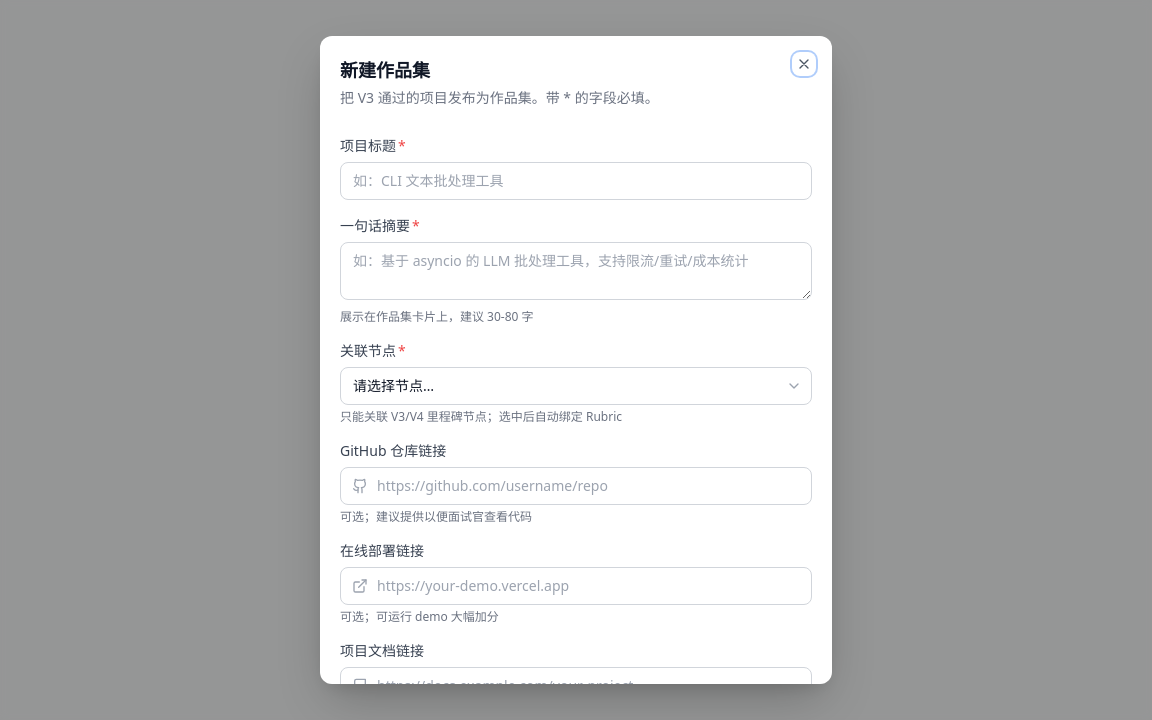
Scenario: PortfolioEditorModal › 节点下拉只列 V3/V4 节点（mockNodes 都符合）
Click the button named "关联节点" at (394, 386), box [340,367,812,405]
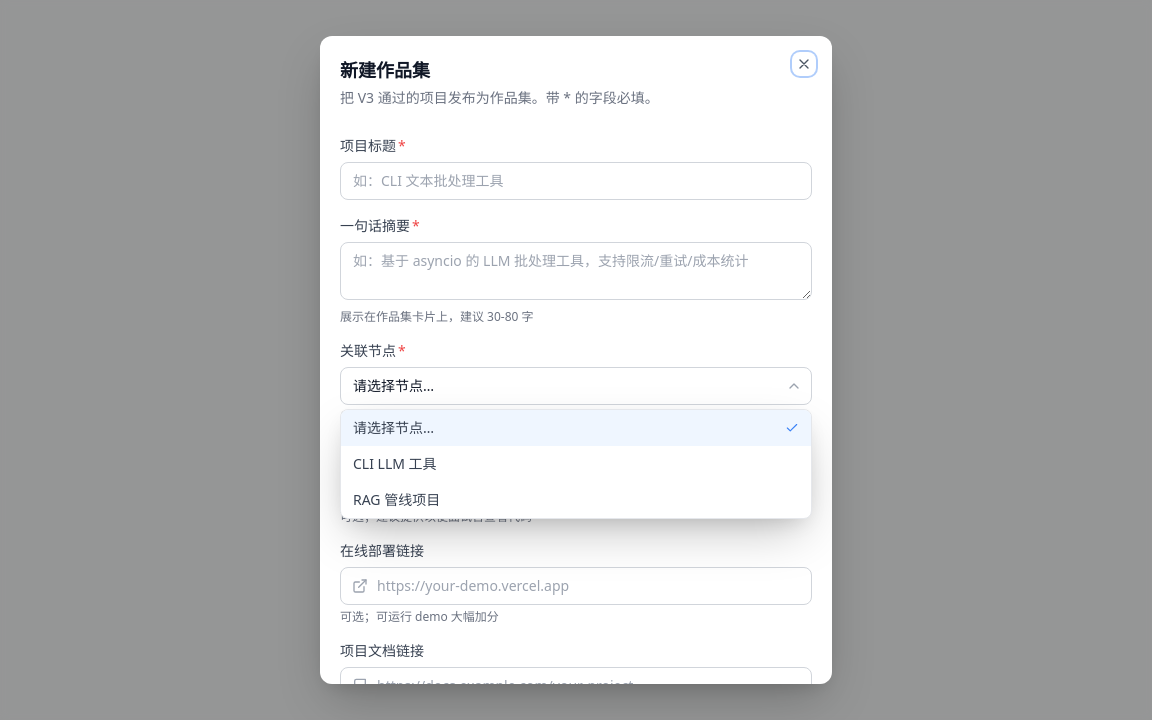
Expected: the option "CLI LLM 工具" is shown, [353,454,437,473]
Expected: the option "RAG 管线项目" is shown, [353,490,440,509]
